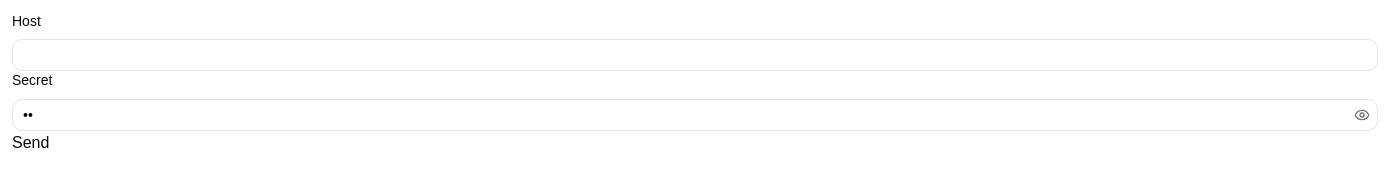
Test case: FormTextField › a password field has the show and hide button, other fields do not
What coordinates should you click on to do the following:
click the button named "Show password"
I would click on:
 (1362, 114)
Its box is left=1350, top=102, right=1374, bottom=126.
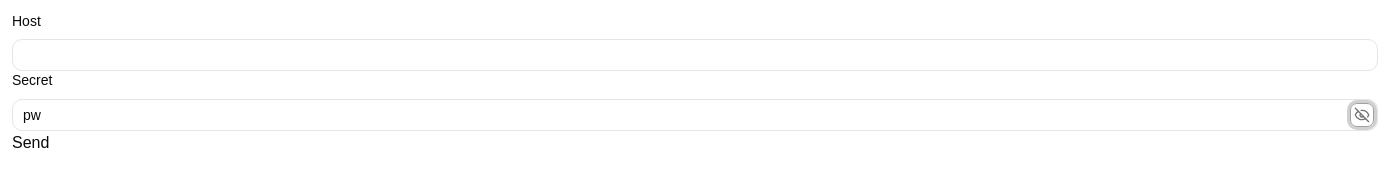
Now the field labelled "Secret" shows its text, box left=13, top=98, right=1350, bottom=130
